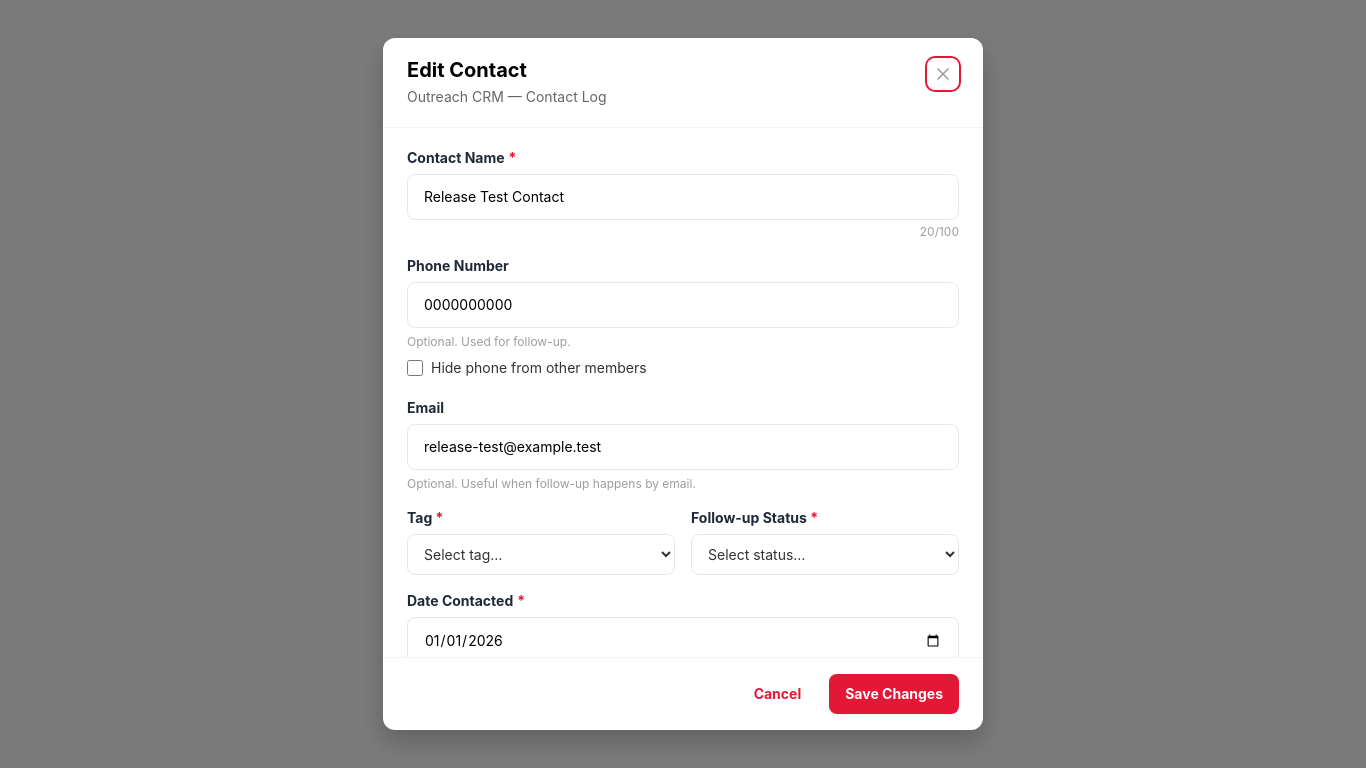
Scenario: a failed save keeps the dialog open and shows the error
Click the button "Save Changes": x=894, y=694 [829,674,959,714]
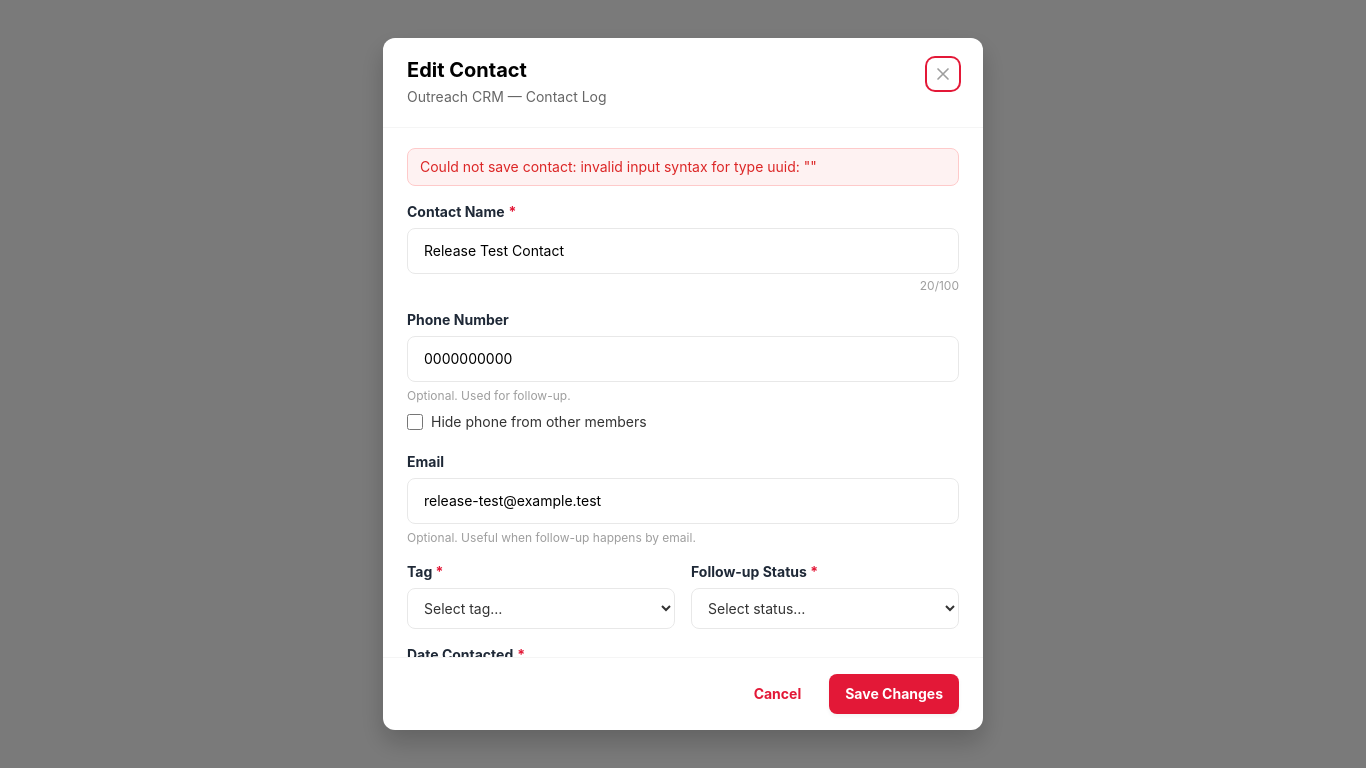
Now the message "Could not save contact: invalid input syntax for type uuid: \"\"" is shown, box [407,148,959,186]
